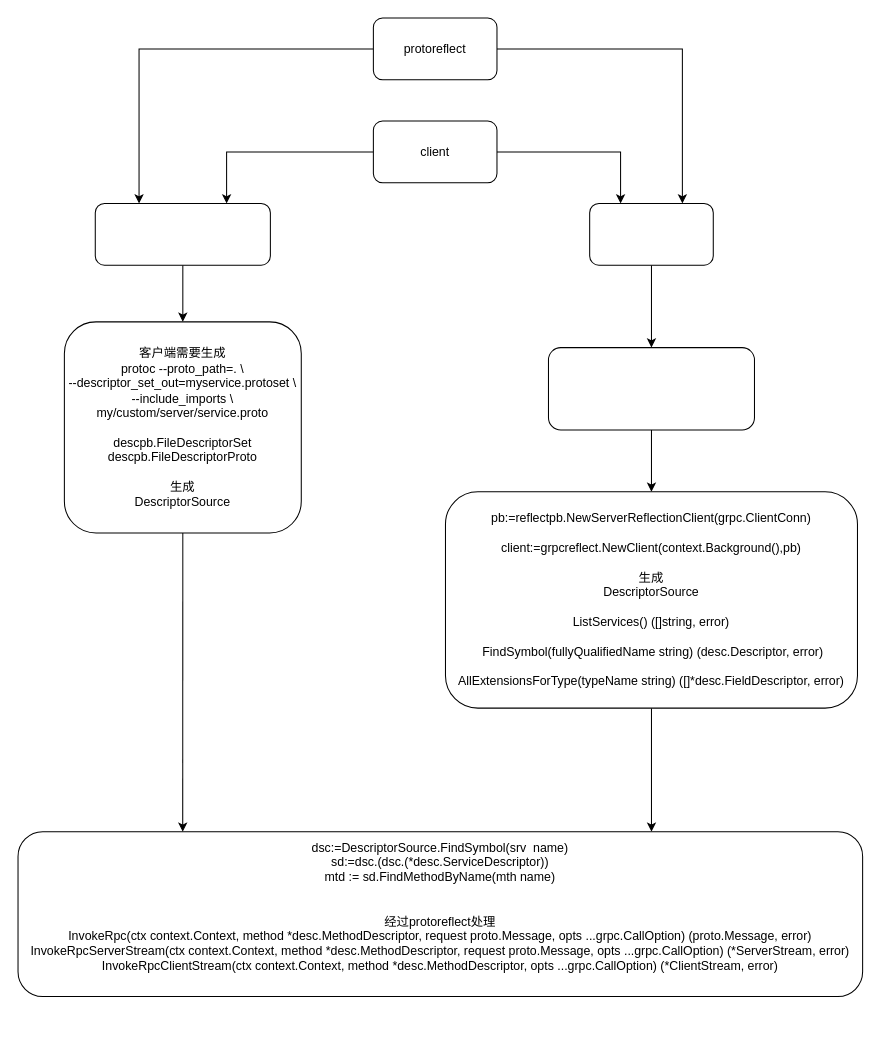
The diagram is 881 pixels wide and 1051 high, and some of its shapes have lost their labels. The box of each missing label's shape, as (x1, y1, x2, y2) in pixels:
protoset模式/proto file: (94, 202, 270, 265)
reflec.proto server端需要注册 reflection.Register(server): (547, 347, 754, 430)
reflection模式: (589, 202, 713, 265)
